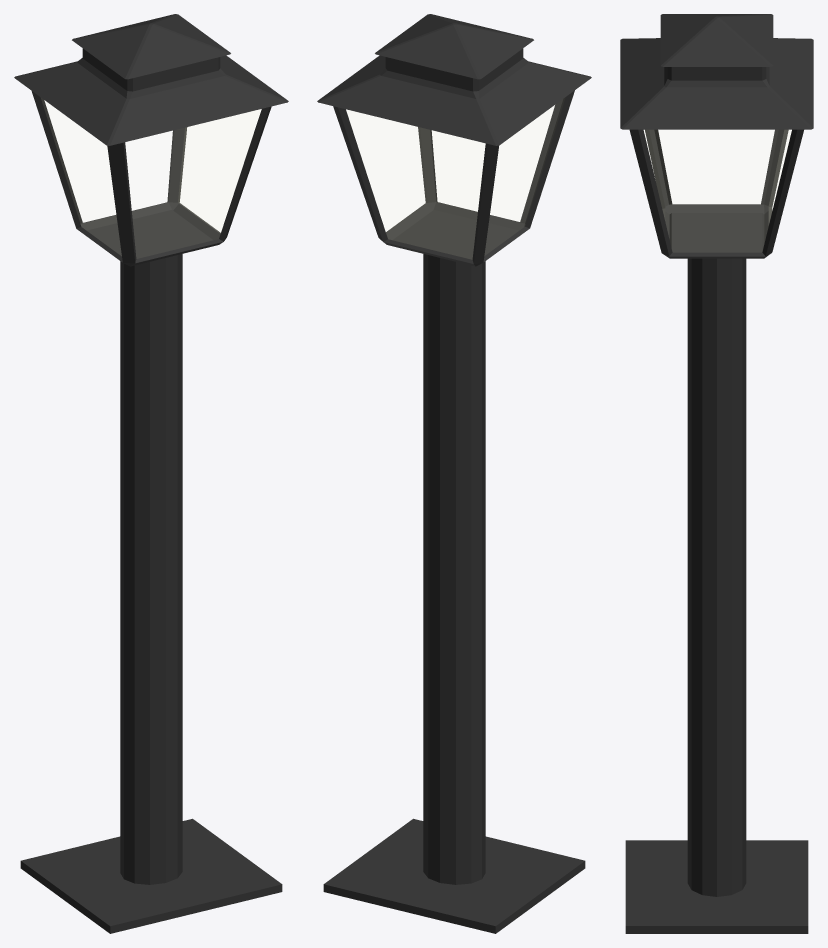
Rendered from poste.fbx.
The picture shows the model from 3 angles, left to right: view 1: azimuth 30°, elevation 25°; view 2: azimuth 150°, elevation 25°; view 3: azimuth 270°, elevation 25°; orthographic projection. The views are drawn at different scales.
Parts seen in each view (by area): view 1: Lampada.001, Poste.001, Base.002; view 2: Lampada.001, Poste.001, Base.002; view 3: Lampada.001, Poste.001, Base.002.
Part boxes in pixels (x1,y1,x2,y2): Lampada.001: (14,14,288,266); Poste.001: (120,254,182,884); Base.002: (20,818,282,933); Lampada.001: (317,14,591,266); Poste.001: (423,254,485,884); Base.002: (323,818,585,933); Lampada.001: (620,14,813,258); Poste.001: (687,258,746,896); Base.002: (625,840,808,933).
Bounding box in the file's own units: 66.06 × 297 × 59.54.
